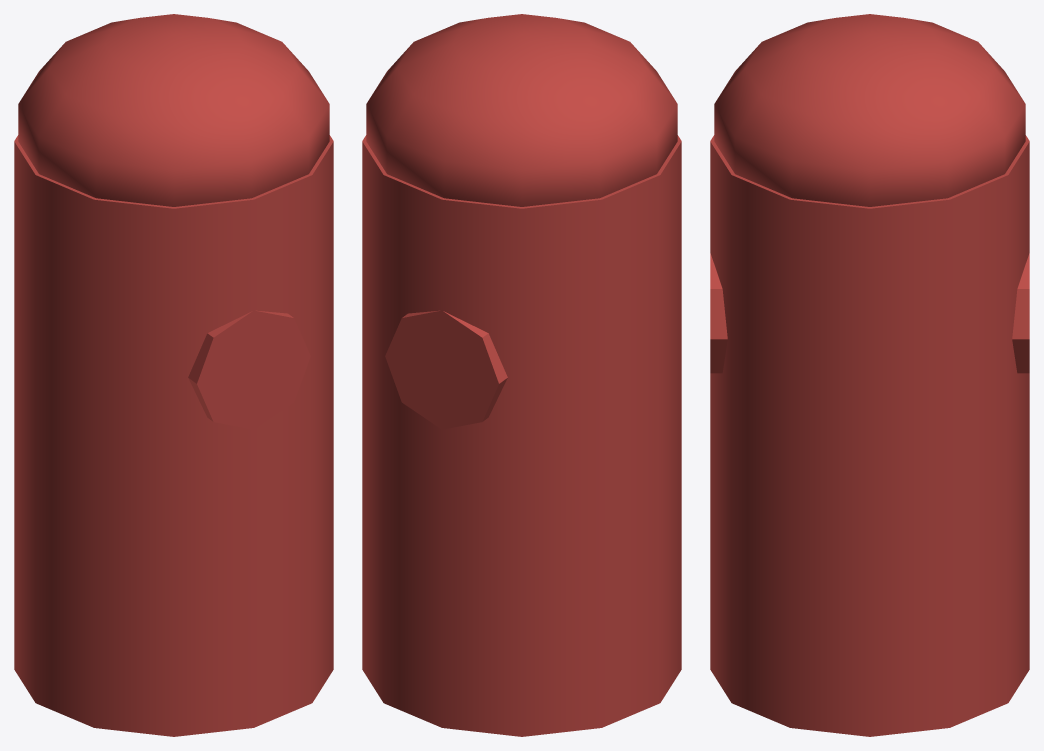
File: city_hydrant.glb
3 views of the same model, side by side, from view 1: azimuth 30°, elevation 25°; view 2: azimuth 150°, elevation 25°; view 3: azimuth 270°, elevation 25° (orthographic).
Parts seen in each view (by area): view 1: HydrantBody, HydrantCap, HydrantArm1, HydrantArm0; view 2: HydrantBody, HydrantCap, HydrantArm0, HydrantArm1; view 3: HydrantBody, HydrantCap, HydrantArm0, HydrantArm1.
Part boxes in pixels (x1=…): HydrantBody: x1=14, y1=135, x2=333, y2=736; HydrantCap: x1=18, y1=14, x2=329, y2=206; HydrantArm1: x1=188, y1=310, x2=310, y2=421; HydrantArm0: x1=197, y1=310, x2=293, y2=429; HydrantBody: x1=362, y1=135, x2=681, y2=736; HydrantCap: x1=366, y1=14, x2=677, y2=206; HydrantArm0: x1=385, y1=310, x2=507, y2=421; HydrantArm1: x1=402, y1=310, x2=498, y2=429; HydrantBody: x1=710, y1=135, x2=1029, y2=736; HydrantCap: x1=714, y1=14, x2=1025, y2=206; HydrantArm0: x1=710, y1=253, x2=727, y2=373; HydrantArm1: x1=1012, y1=253, x2=1029, y2=373.
Size of the model in its own units: 0.34 by 0.7454 by 0.34.
